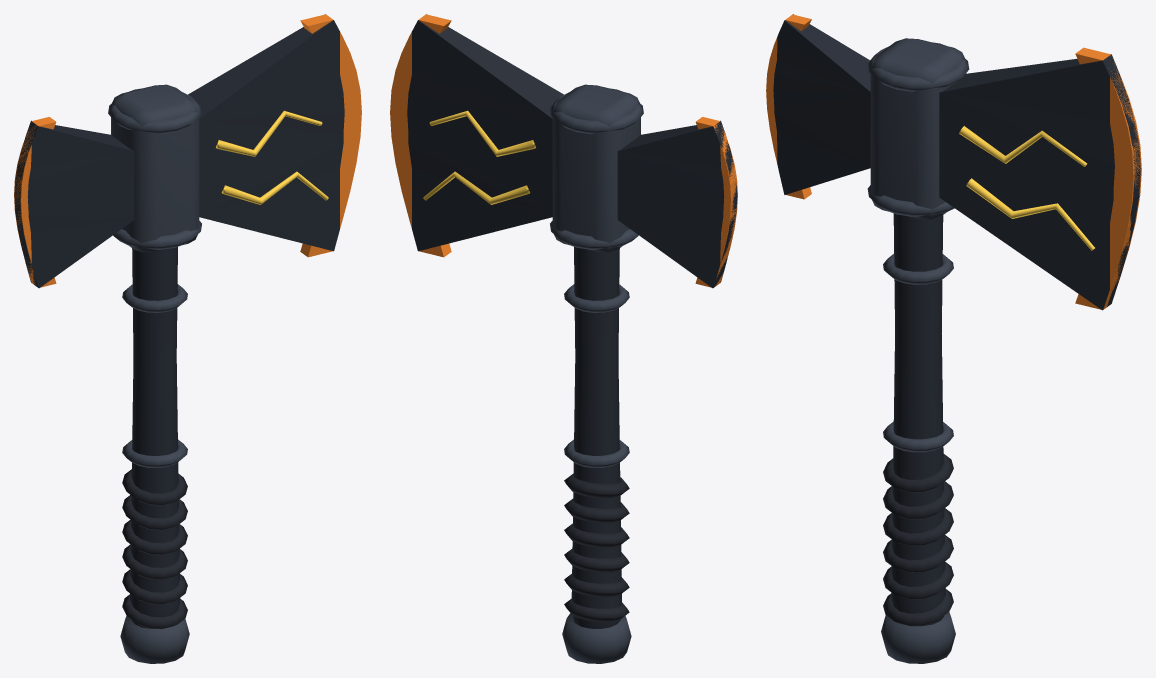
Rendered from Tool_T14.fbx.
3 renders of one model, left to right at view 1: azimuth 30°, elevation 25°; view 2: azimuth 150°, elevation 25°; view 3: azimuth 330°, elevation 25°, orthographic. The views are drawn at different scales.
Parts seen in each view (by area): view 1: ToolT14Head, ToolT14Handle, ToolT14HeadGlow; view 2: ToolT14Head, ToolT14Handle, ToolT14HeadGlow; view 3: ToolT14Head, ToolT14Handle, ToolT14HeadGlow.
Boxes of the visible parts, x1,y1,x2,y2 form: ToolT14Head: (14, 14, 344, 288); ToolT14Handle: (120, 247, 189, 663); ToolT14HeadGlow: (14, 14, 361, 287); ToolT14Head: (407, 14, 737, 288); ToolT14Handle: (562, 247, 631, 663); ToolT14HeadGlow: (390, 14, 737, 287); ToolT14Head: (773, 14, 1140, 310); ToolT14Handle: (881, 213, 955, 663); ToolT14HeadGlow: (766, 14, 1141, 309).
Bounding box in the file's own units: 265 × 440 × 64.
